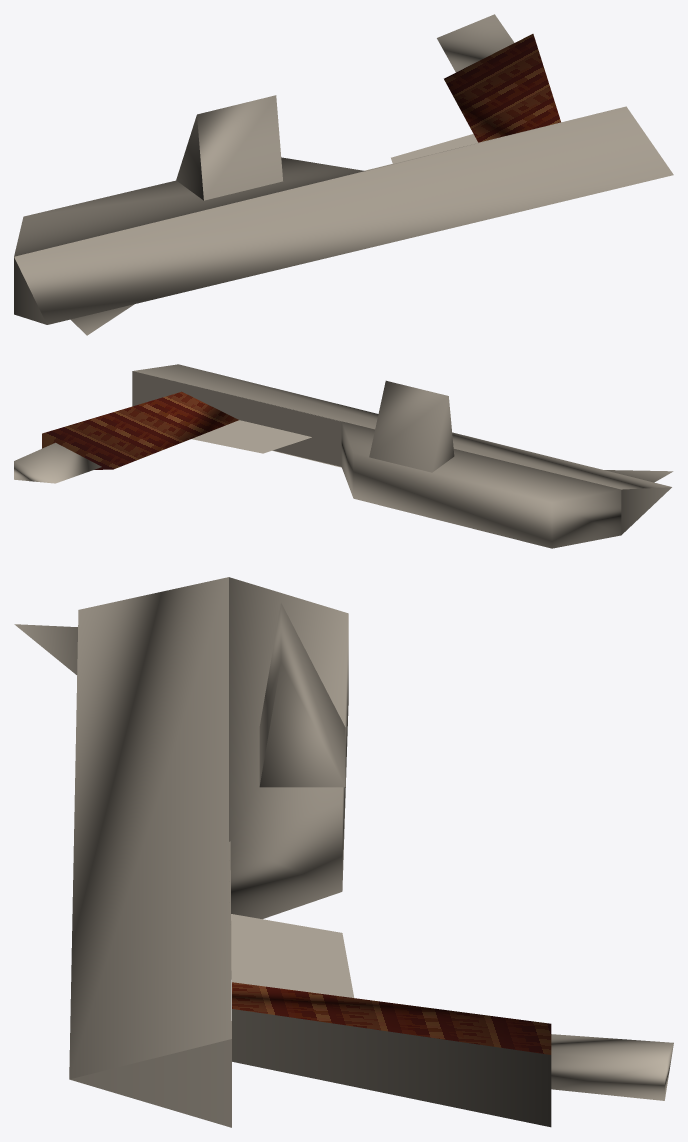
File: 04-magsec-4-tp.glb
3 views of the same model, one above another, from view 1: azimuth 30°, elevation 25°; view 2: azimuth 150°, elevation 25°; view 3: azimuth 270°, elevation 25° (orthographic). The views are drawn at different scales.
Visible parts, largest first — view 1: gun; view 2: gun; view 3: gun.
Boxes of the visible parts, x1,y1,x2,y2 form: gun: (14, 14, 673, 335); gun: (14, 364, 673, 548); gun: (14, 577, 673, 1127).
Size of the model in its own units: 446 by 92.55 by 258.
3 materials, 3 textured.
